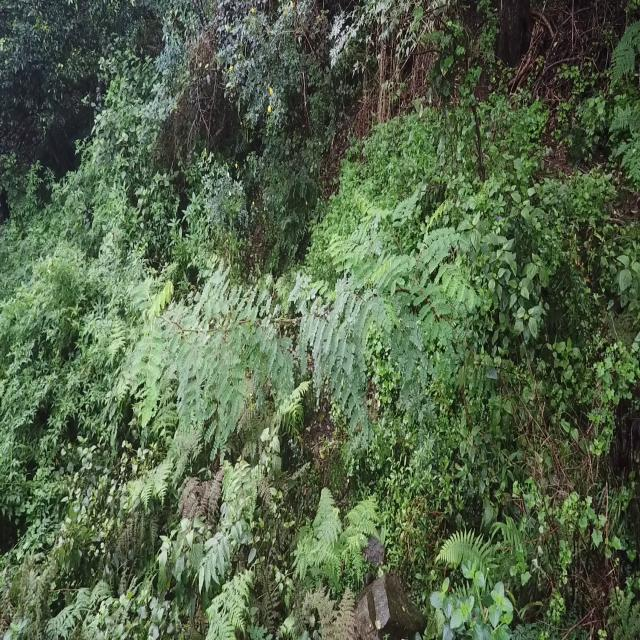Mysore-Thorn-Weed: (102, 249, 394, 461), (315, 180, 490, 412)
